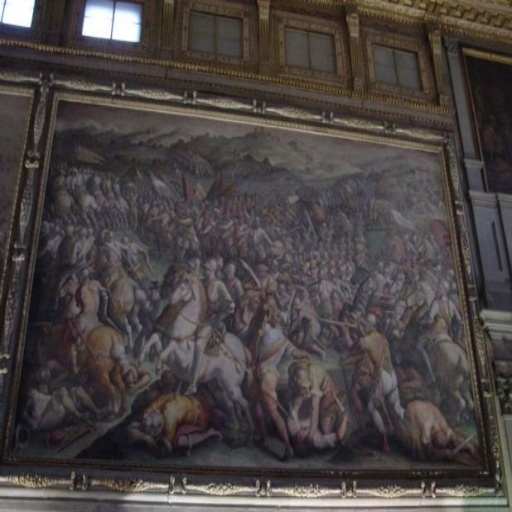hand: (338, 407, 349, 417)
